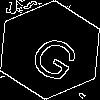G: (25, 25, 90, 85)
